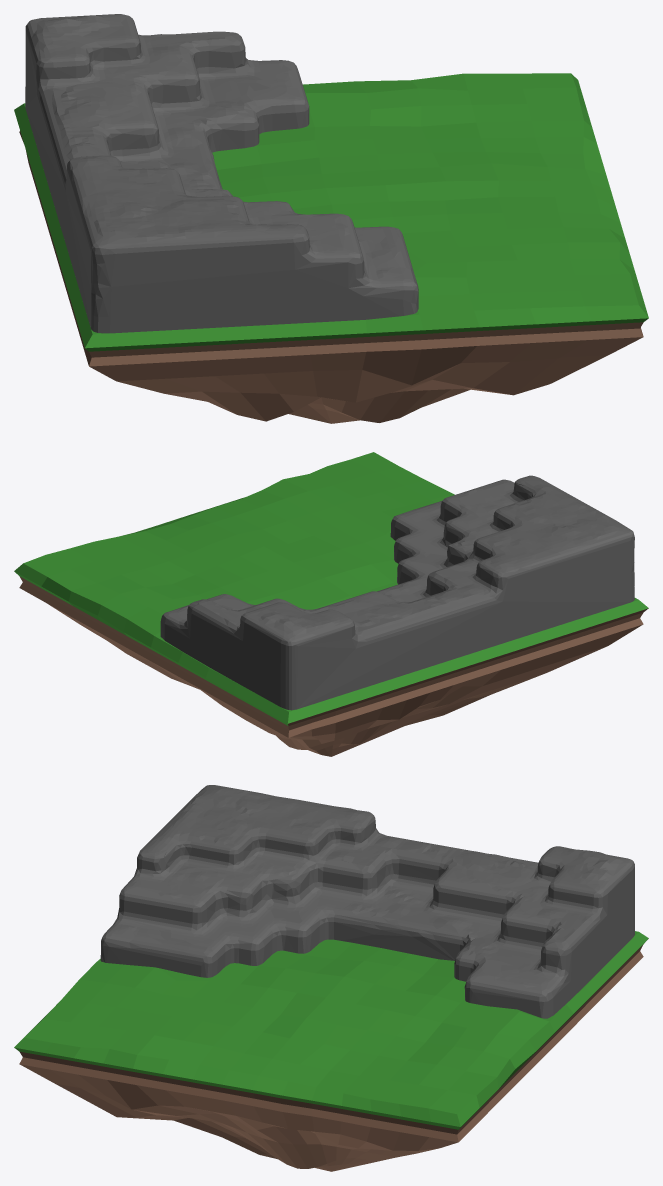
File: islandwithrock.fbx
3 views of the same model, one above another, from view 1: azimuth 30°, elevation 25°; view 2: azimuth 150°, elevation 25°; view 3: azimuth 270°, elevation 25° (orthographic). The views are drawn at different scales.
Parts seen in each view (by area): view 1: Cube.001; view 2: Cube.001; view 3: Cube.001.
Boxes of the visible parts, left/top/right/bottom form: Cube.001: left=14, top=14, right=648, bottom=423; Cube.001: left=14, top=452, right=648, bottom=756; Cube.001: left=14, top=785, right=648, bottom=1171.
Bounding box in the file's own units: 4205 × 1950 × 4205.
